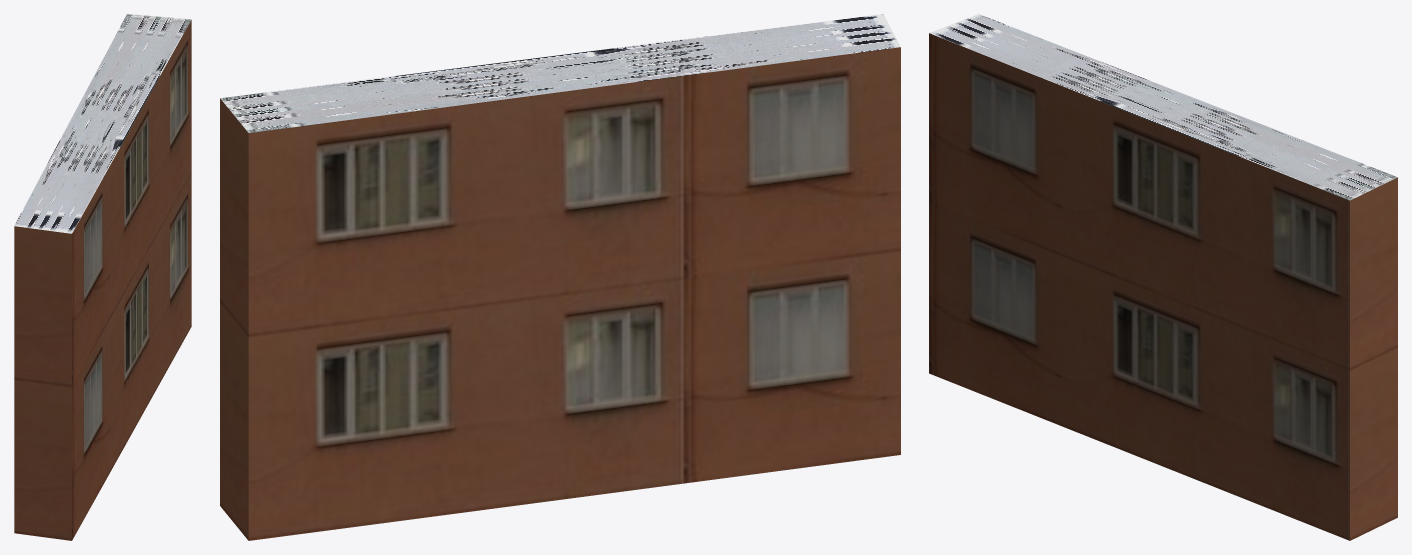
Rendered from ResTex__417.fbx.
3 renders of one model, left to right at view 1: azimuth 30°, elevation 25°; view 2: azimuth 150°, elevation 25°; view 3: azimuth 270°, elevation 25°, orthographic. The views are drawn at different scales.
Parts seen in each view (by area): view 1: CityEngineMaterial_20_m, CityEngineMaterial_4_m; view 2: CityEngineMaterial_20_m, CityEngineMaterial_4_m; view 3: CityEngineMaterial_20_m, CityEngineMaterial_4_m.
Part boxes in pixels (bbox=[...]): CityEngineMaterial_20_m: bbox=[14, 20, 191, 540]; CityEngineMaterial_4_m: bbox=[14, 14, 191, 233]; CityEngineMaterial_20_m: bbox=[220, 47, 900, 540]; CityEngineMaterial_4_m: bbox=[220, 14, 900, 132]; CityEngineMaterial_20_m: bbox=[929, 33, 1397, 540]; CityEngineMaterial_4_m: bbox=[929, 14, 1397, 200].
Size of the model in its own units: 7.06 by 6 by 7.49.
2 materials, 2 textured.
